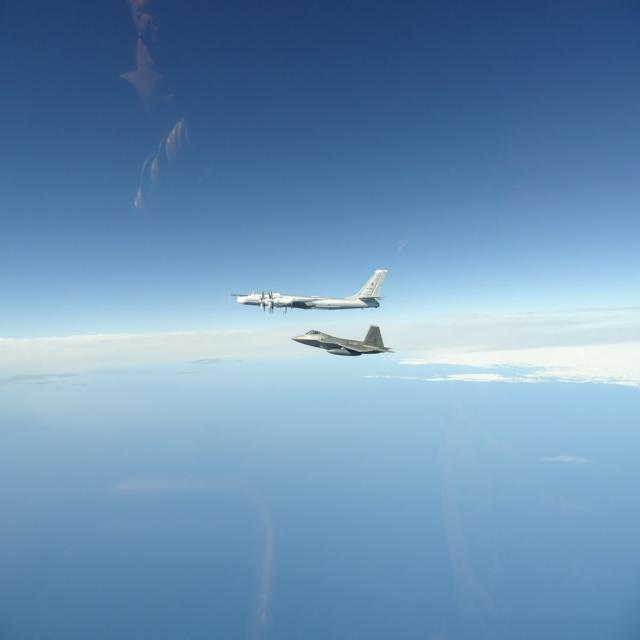MIL_Plane: (230, 269, 388, 315), (296, 324, 390, 357)
